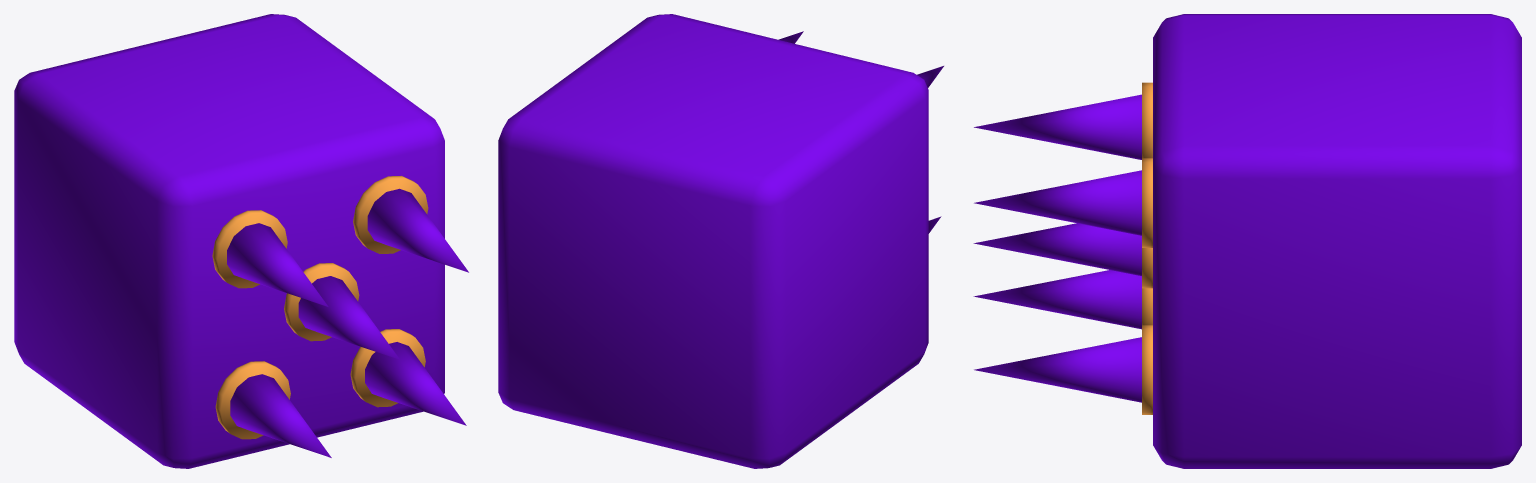
The model's file is Spike_Trap_Cube.fbx.
3 renders of one model, left to right at view 1: azimuth 30°, elevation 25°; view 2: azimuth 150°, elevation 25°; view 3: azimuth 270°, elevation 25°, orthographic. The views are drawn at different scales.
Visible parts, largest first — view 1: spike trap cube, spikes 1; view 2: spike trap cube, spikes 1; view 3: spike trap cube, spikes 1.
Boxes of the visible parts, x1,y1,x2,y2 form: spike trap cube: (14, 14, 444, 468); spikes 1: (227, 188, 468, 457); spike trap cube: (498, 14, 928, 468); spikes 1: (778, 31, 943, 233); spike trap cube: (1142, 14, 1521, 468); spikes 1: (973, 94, 1141, 402).
Size of the model in its own units: 339 by 333 by 515.
